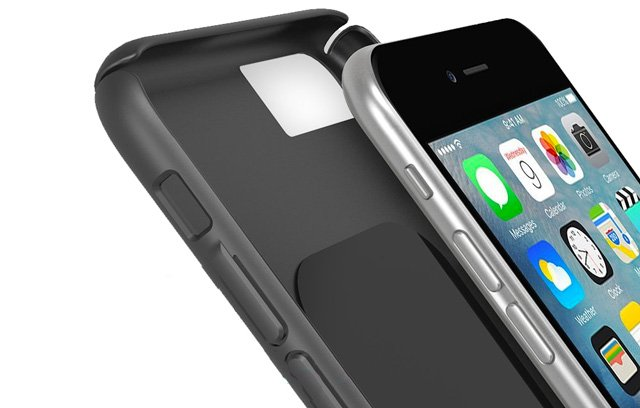Phone: (339, 16, 640, 408)
